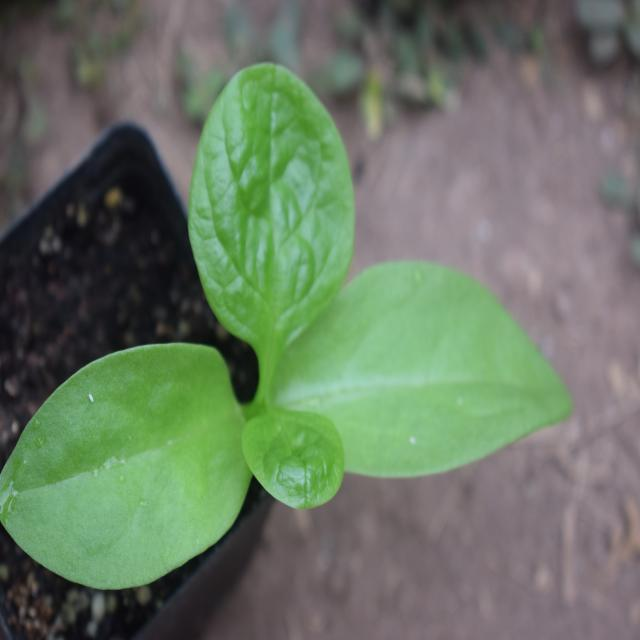Ceylon spinach: (1, 55, 562, 628)
